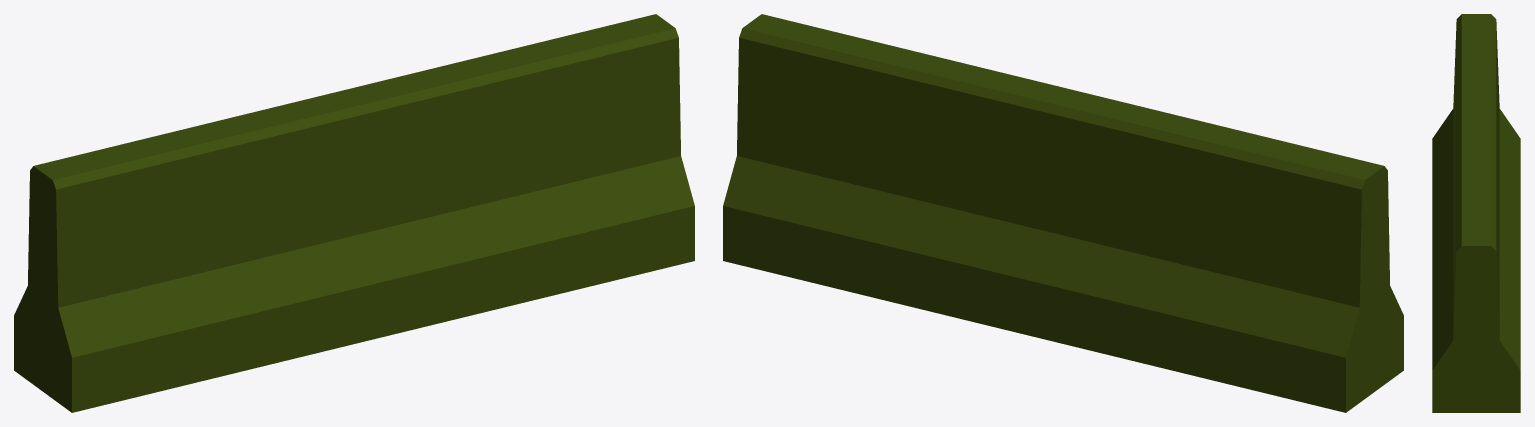
File: T2_Barrier01_M.fbx
3 views of the same model, side by side, from view 1: azimuth 30°, elevation 25°; view 2: azimuth 150°, elevation 25°; view 3: azimuth 270°, elevation 25° (orthographic). The views are drawn at different scales.
Parts seen in each view (by area): view 1: T2_Barrier01; view 2: T2_Barrier01; view 3: T2_Barrier01.
Boxes of the visible parts, x1,y1,x2,y2 form: T2_Barrier01: (14,14,694,412); T2_Barrier01: (723,14,1403,412); T2_Barrier01: (1432,14,1520,412).
Size of the model in its own units: 2.23 by 0.7487 by 0.3599.
